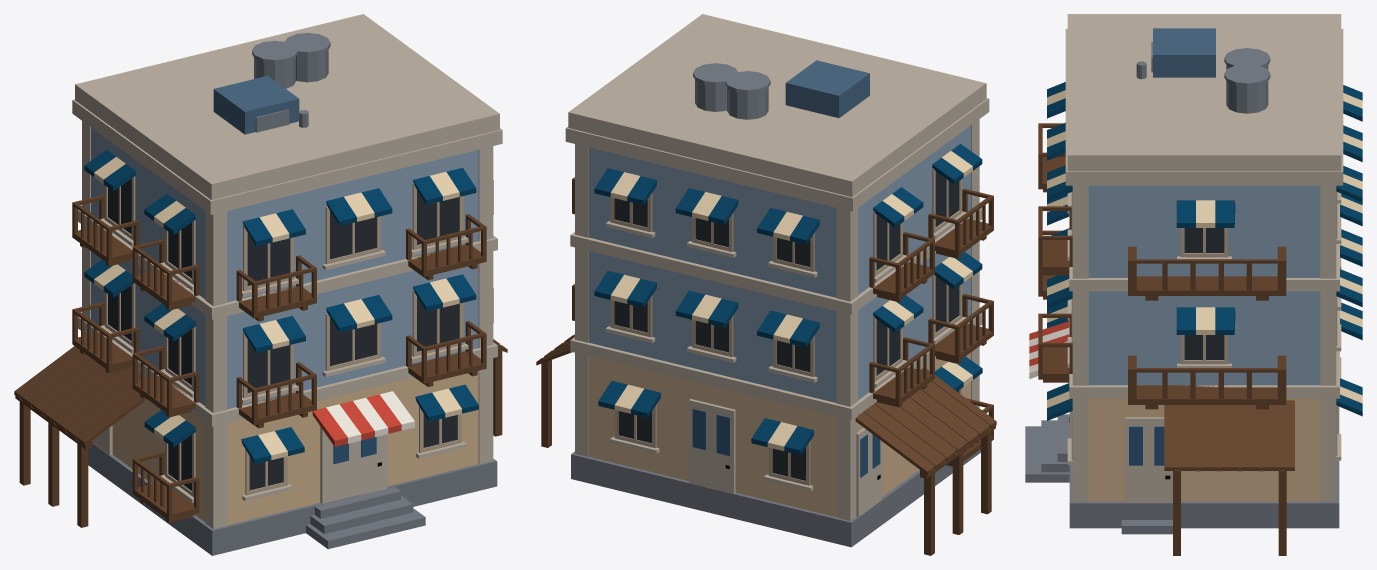
Rendered from apartment.fbx.
The picture shows the model from 3 angles, left to right: view 1: azimuth 30°, elevation 25°; view 2: azimuth 150°, elevation 25°; view 3: azimuth 270°, elevation 25°; orthographic projection.
Parts seen in each view (by area): view 1: Balcony_F2_R_Picket_1; view 2: Balcony_F2_R_Picket_1; view 3: Balcony_F2_R_Picket_1.
Boxes of the visible parts, x1,y1,x2,y2 form: Balcony_F2_R_Picket_1: [14, 14, 507, 555]; Balcony_F2_R_Picket_1: [536, 14, 996, 555]; Balcony_F2_R_Picket_1: [1025, 14, 1362, 555].
Size of the model in its own units: 950 by 888 by 670.
